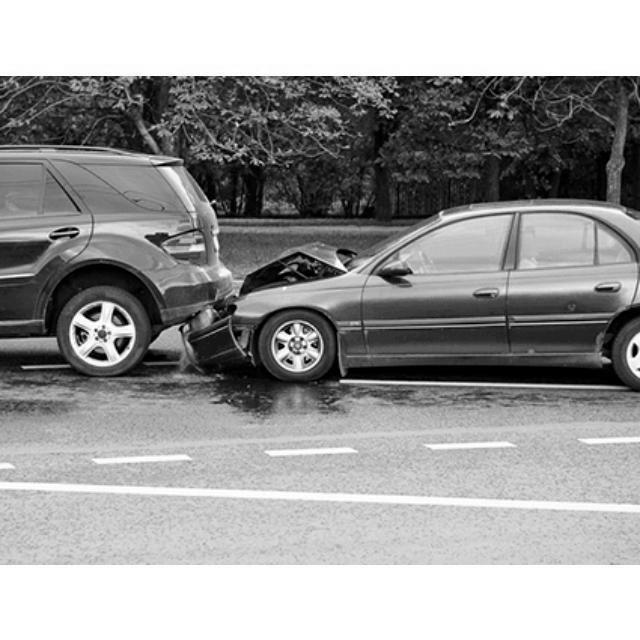bonnet-dent: (233, 236, 350, 303)
front-bumper-dent: (184, 289, 246, 380)
